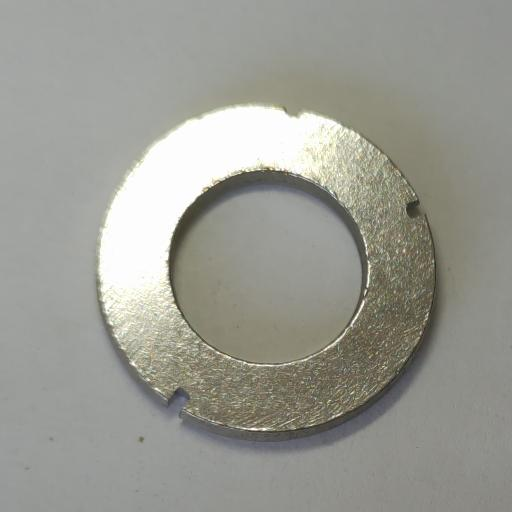burr: (165, 387, 193, 419), (405, 197, 427, 221), (279, 102, 303, 120)
